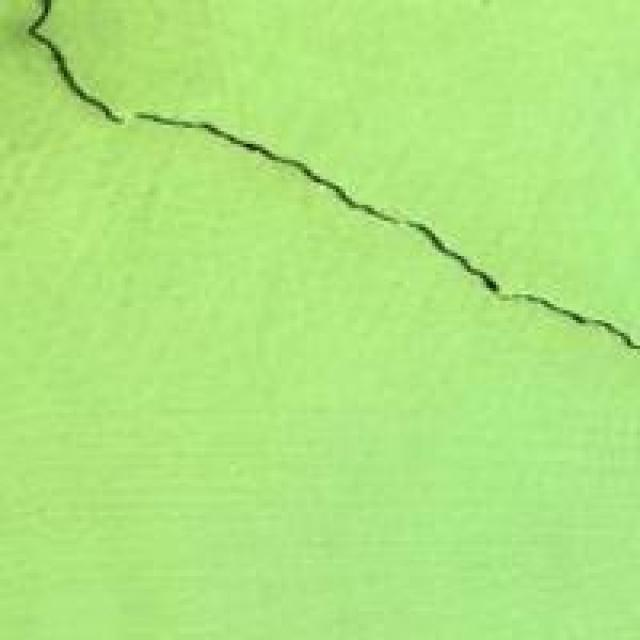Crack: (9, 0, 636, 358)
